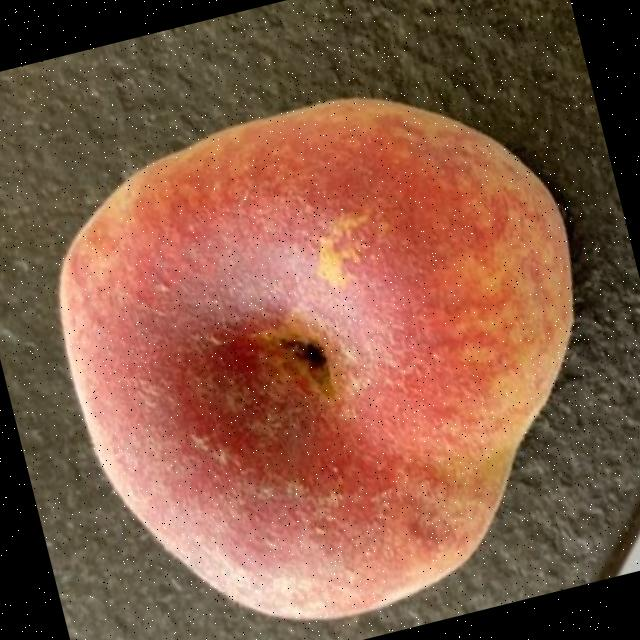peach: (59, 102, 575, 615)
